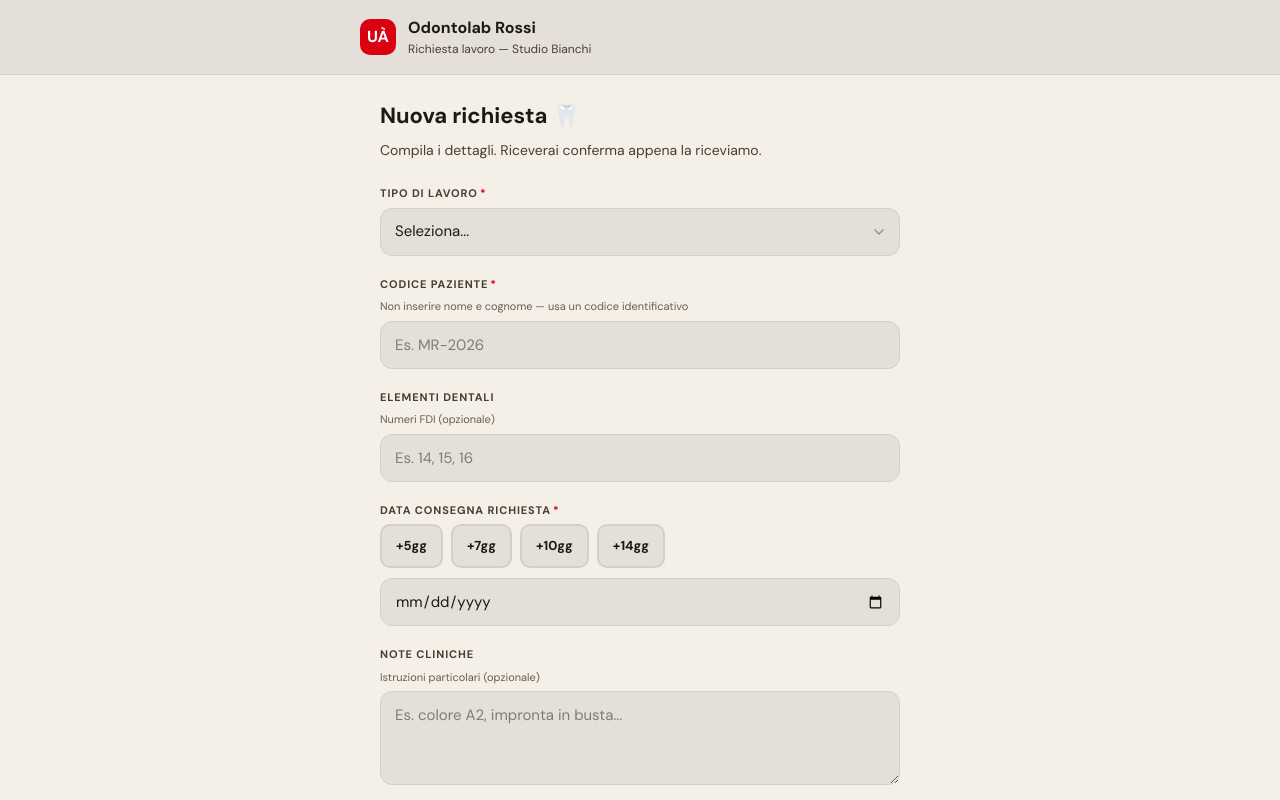
RichiestaClientForm — copy schermata successo (A9) › mostra un solo paragrafo coerente senza contraddire "ricevuto" vs "conferma futura"
Select "Protesi fissa (corona, ponte)" in the dropdown named "Tipo di lavoro" at (640,232), box [380,208,900,256]
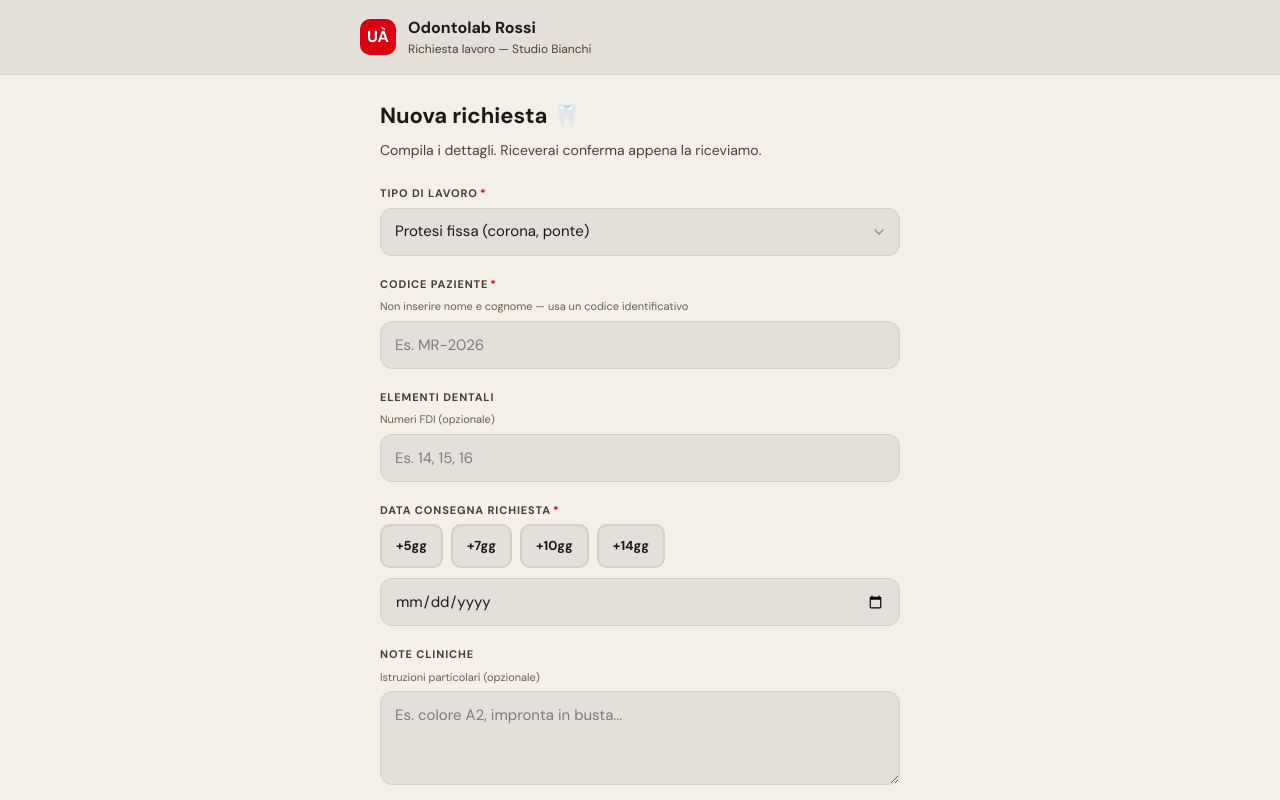
Type "MR-2026" into the field named "Codice paziente" at (640,344), box [380,320,900,368]
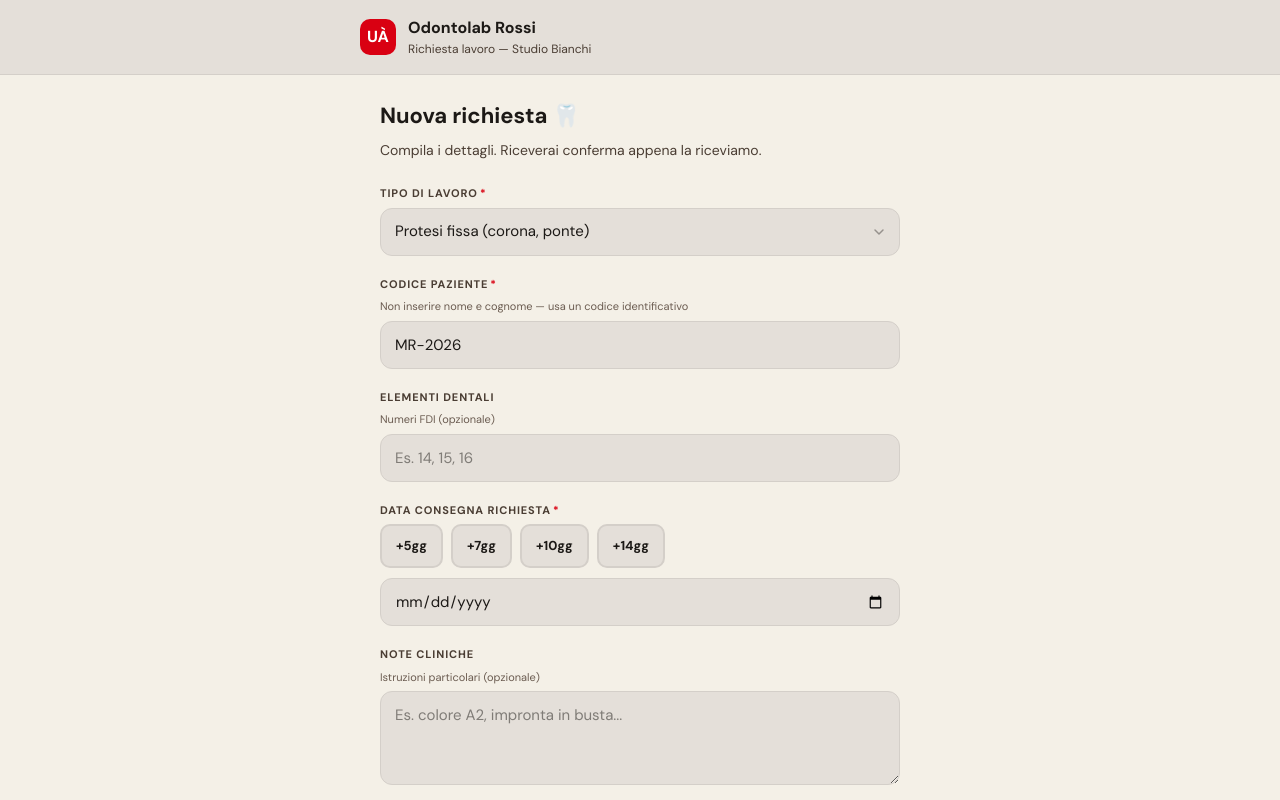
Type "2026-12-01" into the date field named "Data consegna richiesta" at (640,602), box [380,578,900,626]
(page scrolled)
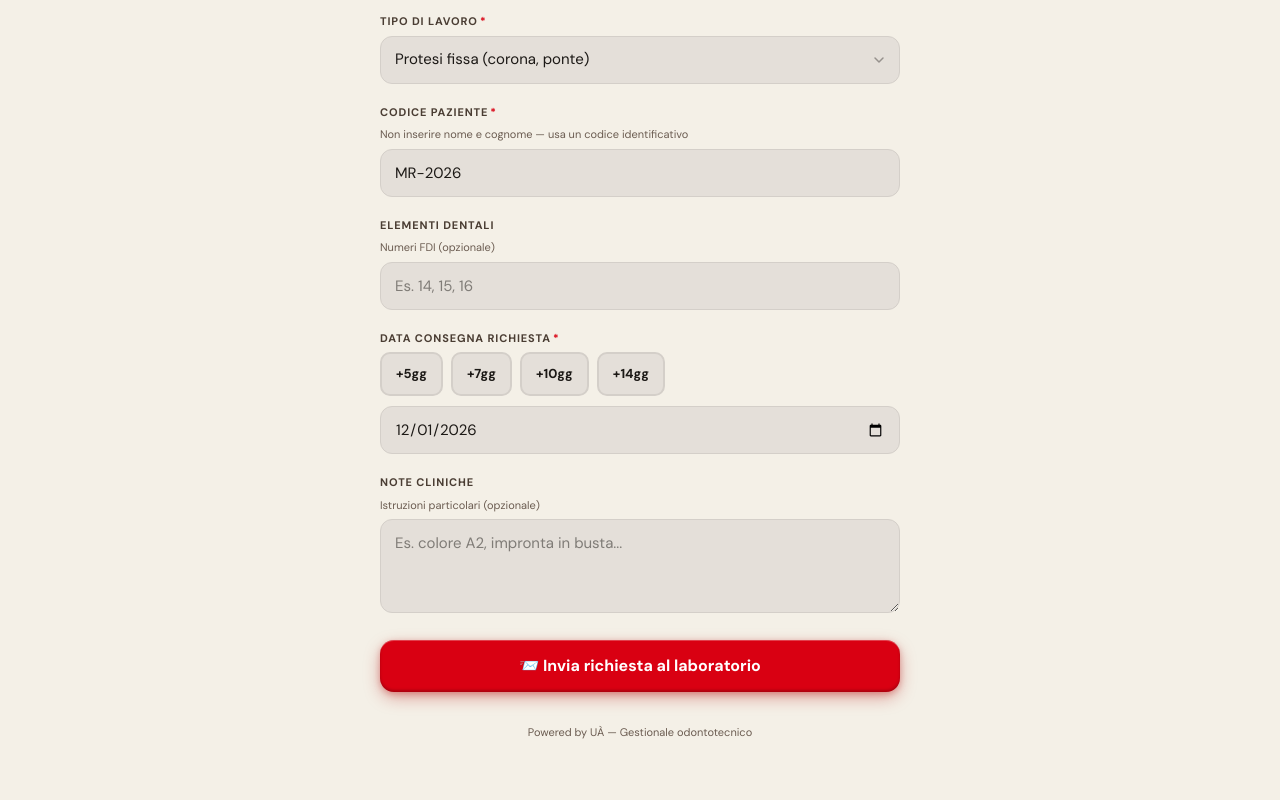
Click the button "📨 Invia richiesta al laboratorio" at (640,666), box [380,640,900,692]
(page scrolled)
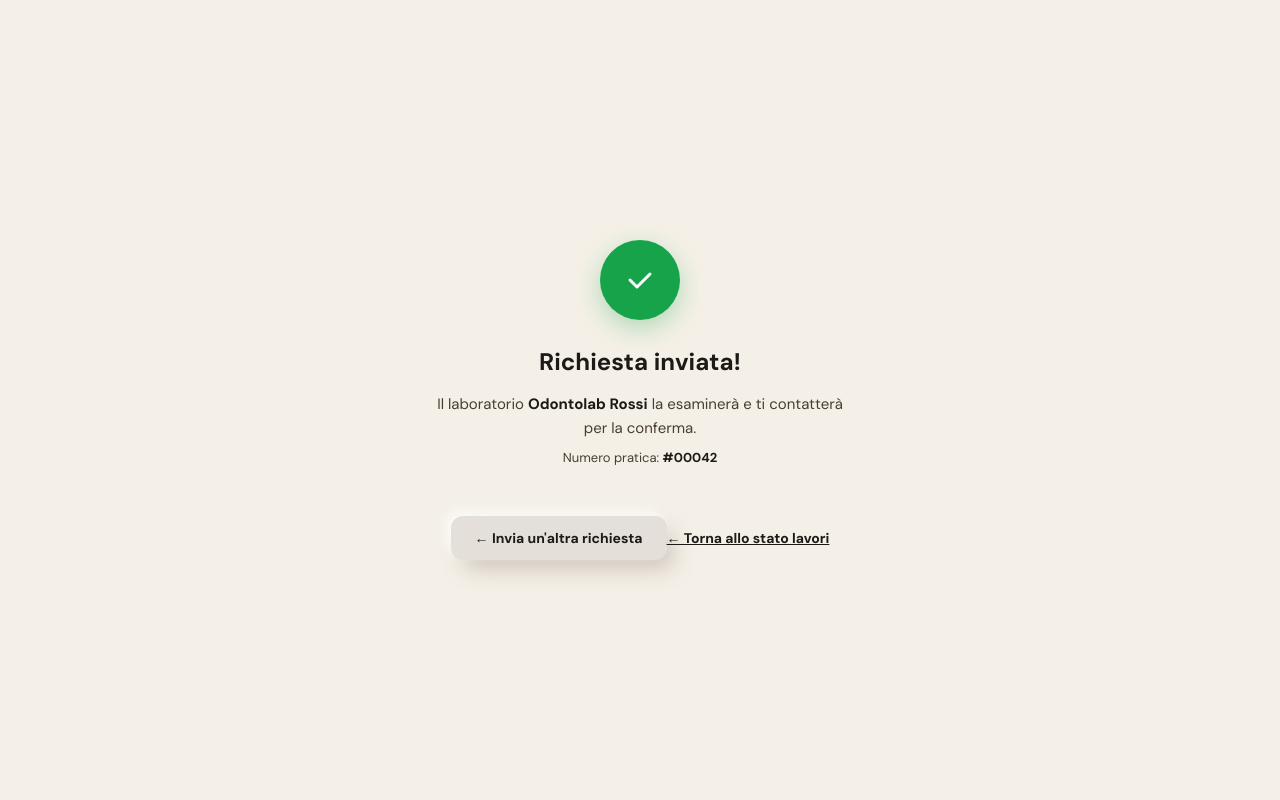
Check: the heading "Richiesta inviata!" is shown, box [539,346,741,377]
